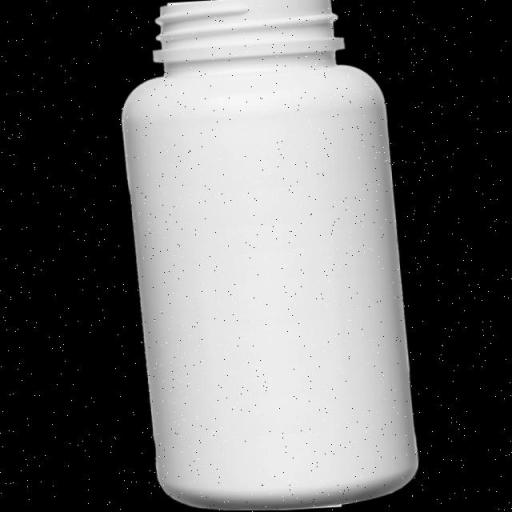plastic: (104, 0, 427, 510)
